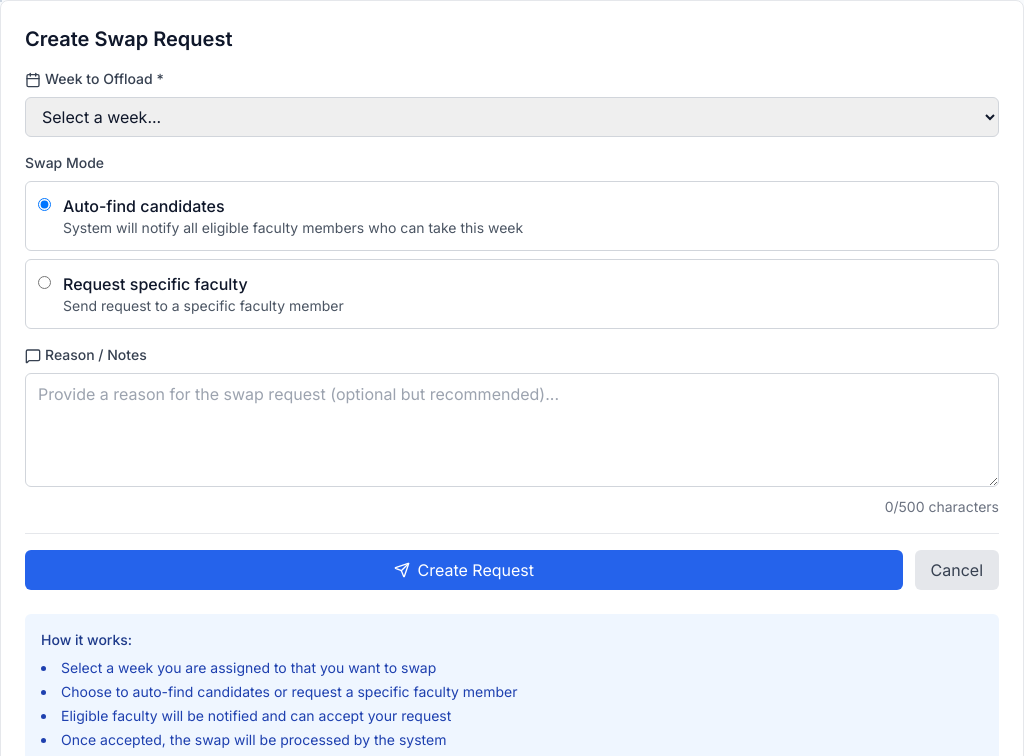
SwapRequestForm › Form Validation › should show error when submitting without week selection
Click the button "Create Request" at (464, 570), box 25,550 -> 902,590
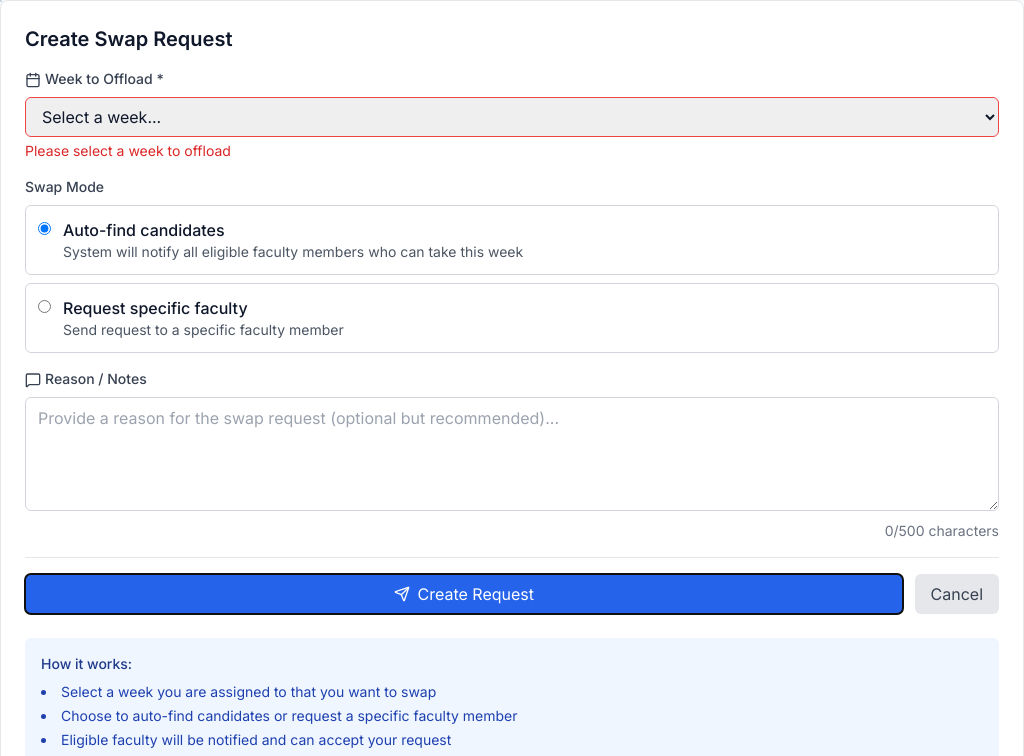
Expected: the text "Please select a week to offload" is shown, 25,142 -> 231,159
